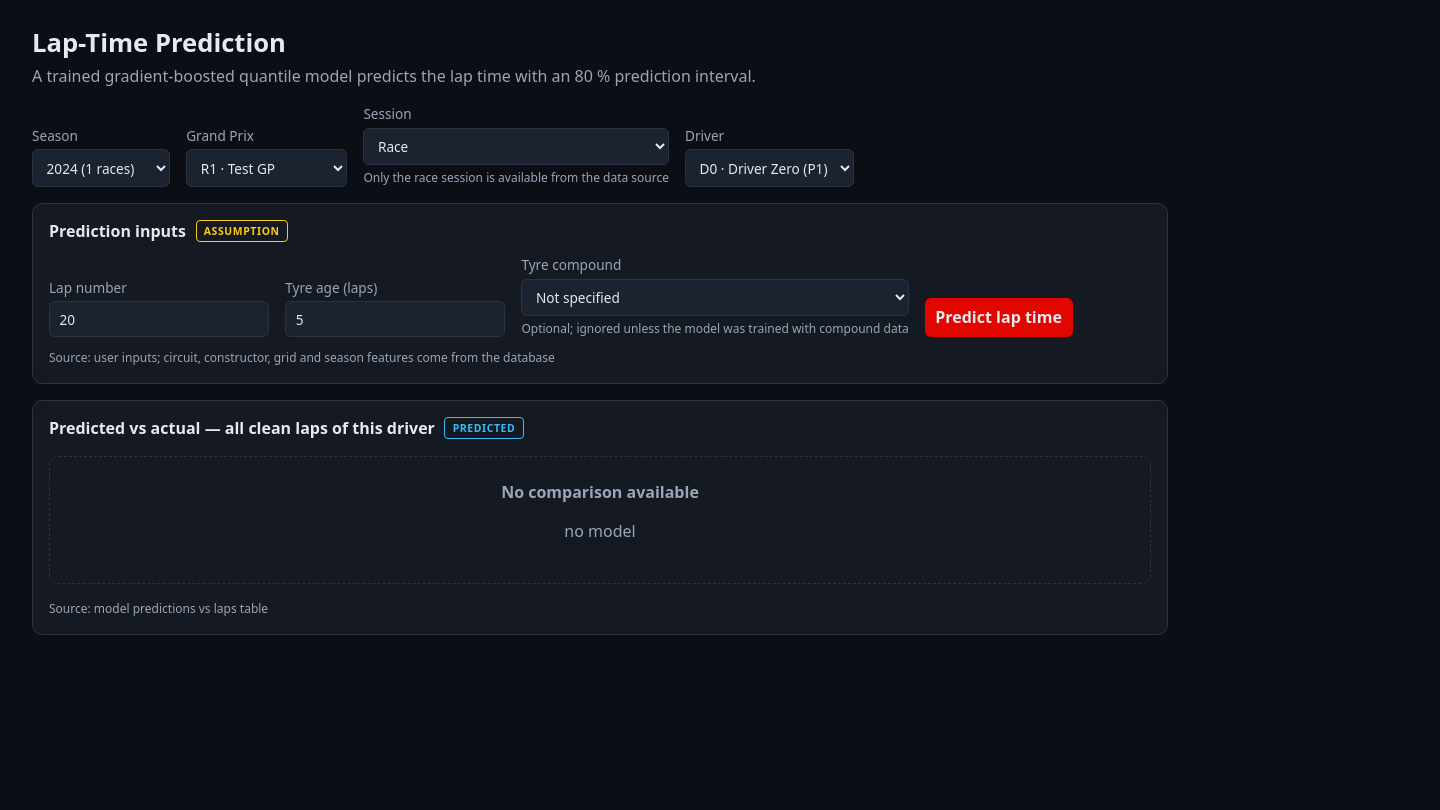
it: Predict page › surfaces a backend error instead of fabricating a prediction
This screenshot has width=1440, height=810.
Click the button "Predict lap time". click: (999, 318)
box: [925,298,1072,338]
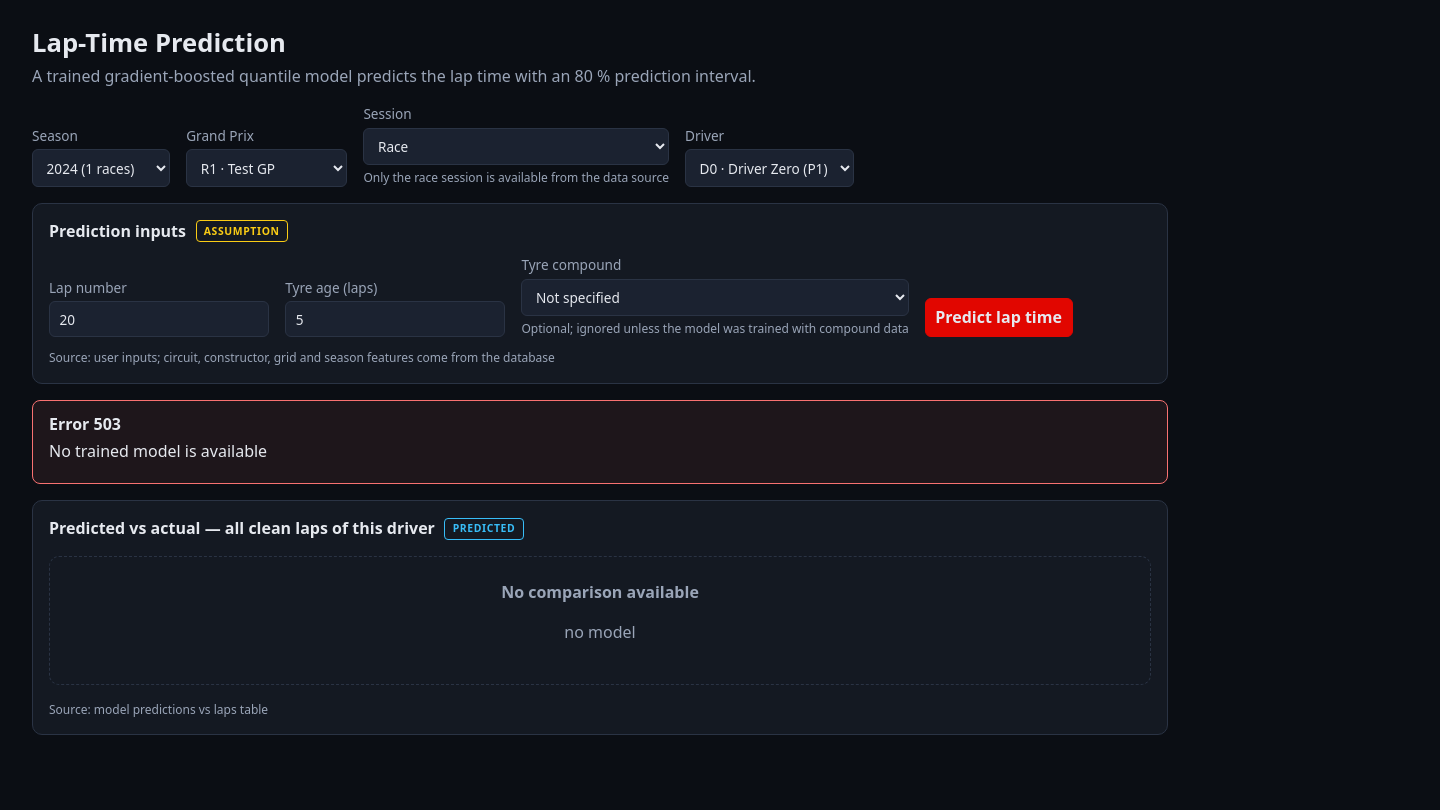
Expected: the message shows "No trained model is available", [49,440,267,462]
